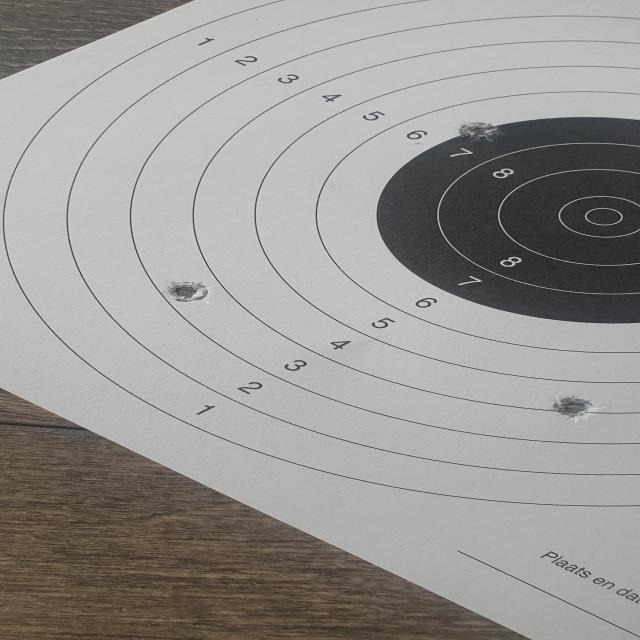3: (161, 279, 218, 305)
4: (549, 393, 603, 422)
7: (454, 120, 506, 142)
Target: (0, 0, 640, 509)
black_contour: (375, 113, 640, 324)
